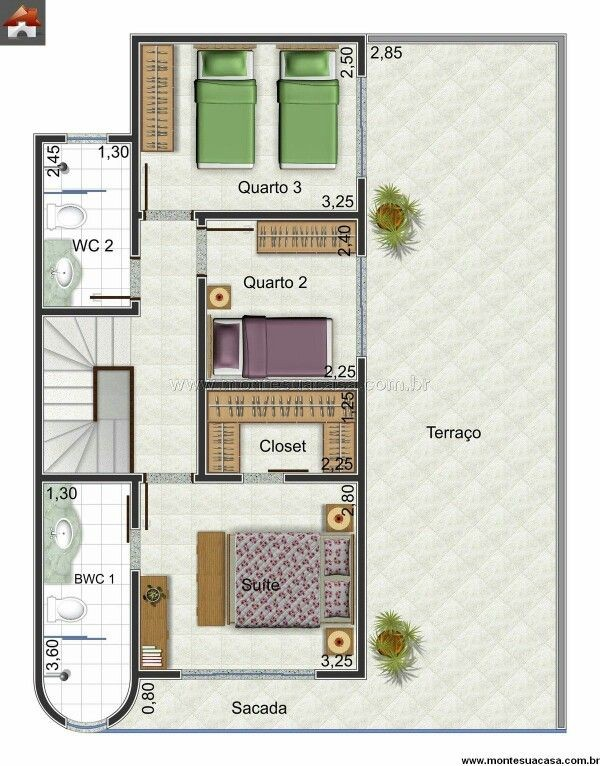wall: (34, 136, 43, 696), (131, 36, 139, 255), (358, 473, 365, 678), (198, 278, 205, 480), (194, 211, 363, 219), (197, 382, 364, 389), (133, 36, 364, 41), (357, 358, 365, 479), (132, 571, 139, 690), (35, 308, 138, 314), (284, 475, 363, 482), (358, 179, 365, 255), (132, 474, 139, 529), (196, 474, 241, 482), (317, 671, 364, 678), (135, 671, 181, 678), (357, 36, 364, 75), (109, 136, 138, 142), (198, 212, 205, 226), (132, 302, 138, 314), (131, 212, 143, 217)
